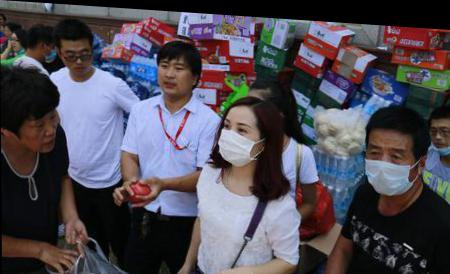NONE: (26, 110, 61, 153), (159, 57, 189, 94), (64, 45, 94, 74), (12, 37, 23, 52)
OK: (364, 129, 413, 192), (219, 111, 263, 163), (37, 41, 59, 65)
WRONG: (432, 117, 450, 152)
